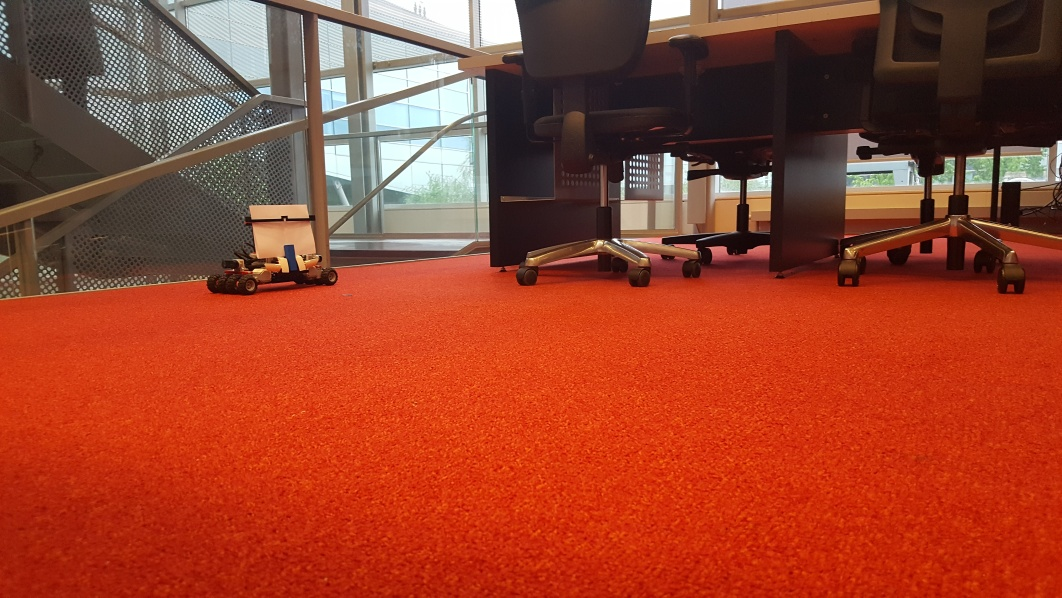car: (207, 204, 340, 297)
